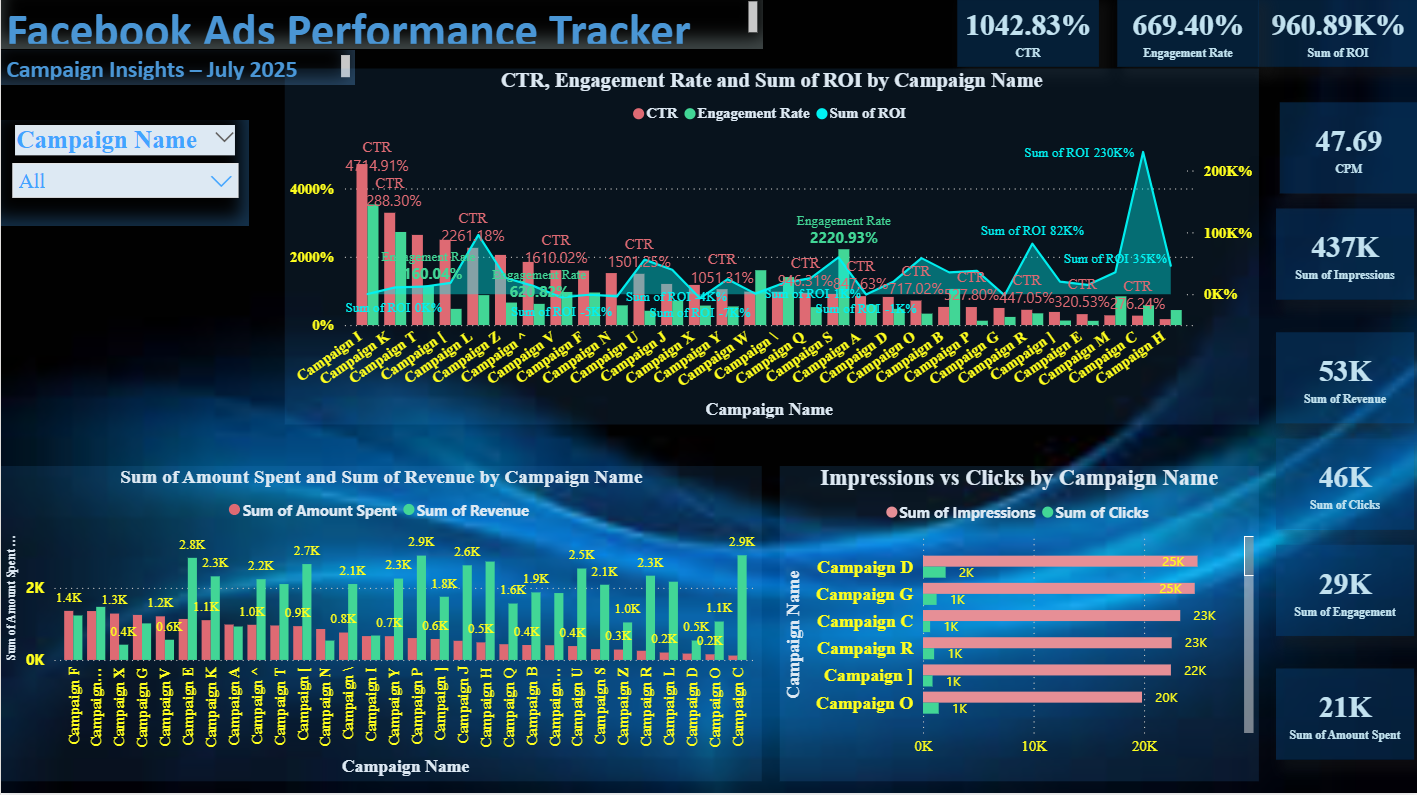

Layout of this report page (visuals, bound fields, positions):
{"tool":"powerbi","page":{"name":"Page 1","canvas":[1280,720],"ordinal":0},"visuals":[{"type":"card","fields":{"Values":["Sum(Facebook_Ads_Performance_Large.ROI)"]},"box":[1136,0,144,64],"z":0},{"type":"card","fields":{"Values":["Sum(Facebook_Ads_Performance_Large.Impressions)"]},"box":[1152,192,125,82],"z":1000},{"type":"card","fields":{"Values":["Facebook_Ads_Performance_Large.Engagement Rate"]},"box":[1008,0,128,64],"z":2000},{"type":"card","fields":{"Values":["Sum(Facebook_Ads_Performance_Large.Clicks)"]},"box":[1152,400,125,82],"z":3000},{"type":"card","fields":{"Values":["Facebook_Ads_Performance_Large.CTR"]},"box":[864,0,128,64],"z":4000},{"type":"card","fields":{"Values":["Sum(Facebook_Ads_Performance_Large.Engagement)"]},"box":[1152,496,125,82],"z":5000},{"type":"textbox","box":[0,0,688,48],"z":6000},{"type":"card","fields":{"Values":["Sum(Facebook_Ads_Performance_Large.Amount Spent)"]},"box":[1152,608,125,82],"z":7000},{"type":"textbox","box":[0,48,320,32],"z":8000},{"type":"card","fields":{"Values":["Sum(Facebook_Ads_Performance_Large.Revenue)"]},"box":[1152,304,125,82],"z":9000},{"type":"clusteredBarChart","title":"Impressions vs Clicks by Campaign Name","fields":{"Category":["Facebook_Ads_Performance_Large.Campaign Name"],"Y":["Sum(Facebook_Ads_Performance_Large.Impressions)","Sum(Facebook_Ads_Performance_Large.Clicks)"]},"box":[703.1,424.7,432.6,284.7],"z":10000},{"type":"card","fields":{"Values":["Facebook_Ads_Performance_Large.CPM"]},"box":[1155,96,125,82],"z":11000},{"type":"lineClusteredColumnComboChart","fields":{"Category":["Facebook_Ads_Performance_Large.Campaign Name"],"Y":["Sum(Facebook_Ads_Performance_Large.Amount Spent)","Sum(Facebook_Ads_Performance_Large.Revenue)"]},"box":[0,424.7,687.1,284.7],"z":12000},{"type":"lineClusteredColumnComboChart","fields":{"Category":["Facebook_Ads_Performance_Large.Campaign Name"],"Y":["Facebook_Ads_Performance_Large.CTR","Facebook_Ads_Performance_Large.Engagement Rate"],"Y2":["Sum(Facebook_Ads_Performance_Large.ROI)"]},"box":[256.1,65.2,879.6,321.3],"z":13000},{"type":"slicer","fields":{"Values":["Facebook_Ads_Performance_Large.Campaign Name"]},"box":[0,112,224,96],"z":14000}]}

Visuals, with their boxes in screenshot pixels (x1, y1, x2, y2), scaled from the page's 1280x720 canvas onto the 1417x795 screenshot:
card - Sum(Facebook_Ads_Performance_Large.ROI): [1258,0,1416,71]
card - Sum(Facebook_Ads_Performance_Large.Impressions): [1275,212,1414,303]
card - Facebook_Ads_Performance_Large.Engagement Rate: [1116,0,1258,71]
card - Sum(Facebook_Ads_Performance_Large.Clicks): [1275,442,1414,532]
card - Facebook_Ads_Performance_Large.CTR: [956,0,1098,71]
card - Sum(Facebook_Ads_Performance_Large.Engagement): [1275,548,1414,638]
textbox: [0,0,762,53]
card - Sum(Facebook_Ads_Performance_Large.Amount Spent): [1275,671,1414,762]
textbox: [0,53,354,88]
card - Sum(Facebook_Ads_Performance_Large.Revenue): [1275,336,1414,426]
"Impressions vs Clicks by Campaign Name" clusteredBarChart: [778,469,1257,783]
card - Facebook_Ads_Performance_Large.CPM: [1279,106,1416,197]
lineClusteredColumnComboChart - Facebook_Ads_Performance_Large.Campaign Name x Sum(Facebook_Ads_Performance_Large.Amount Spent): [0,469,761,783]
lineClusteredColumnComboChart - Facebook_Ads_Performance_Large.Campaign Name x Facebook_Ads_Performance_Large.CTR: [284,72,1257,427]
slicer - Facebook_Ads_Performance_Large.Campaign Name: [0,124,248,230]
